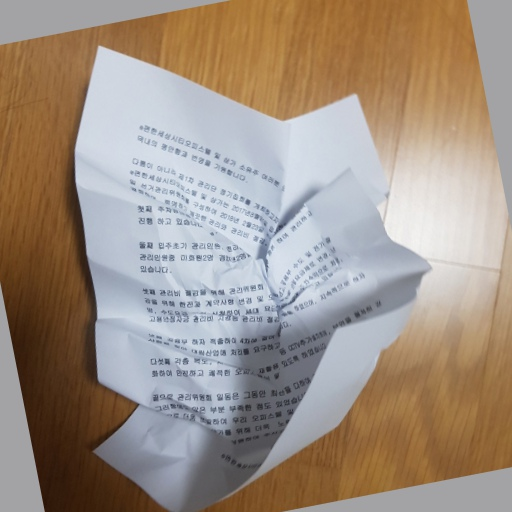Paper_3: (53, 43, 452, 512)
